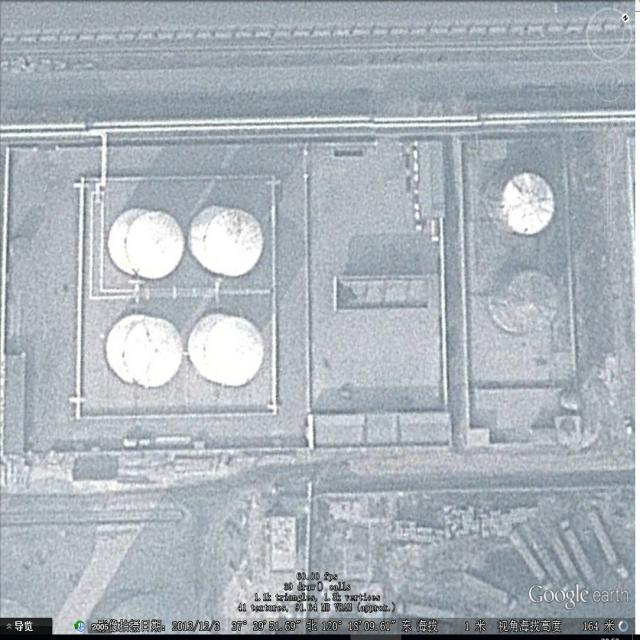oiltank: (186, 201, 270, 284), (103, 310, 187, 392), (188, 307, 267, 393), (105, 205, 187, 286), (485, 161, 561, 242), (487, 266, 563, 336)
